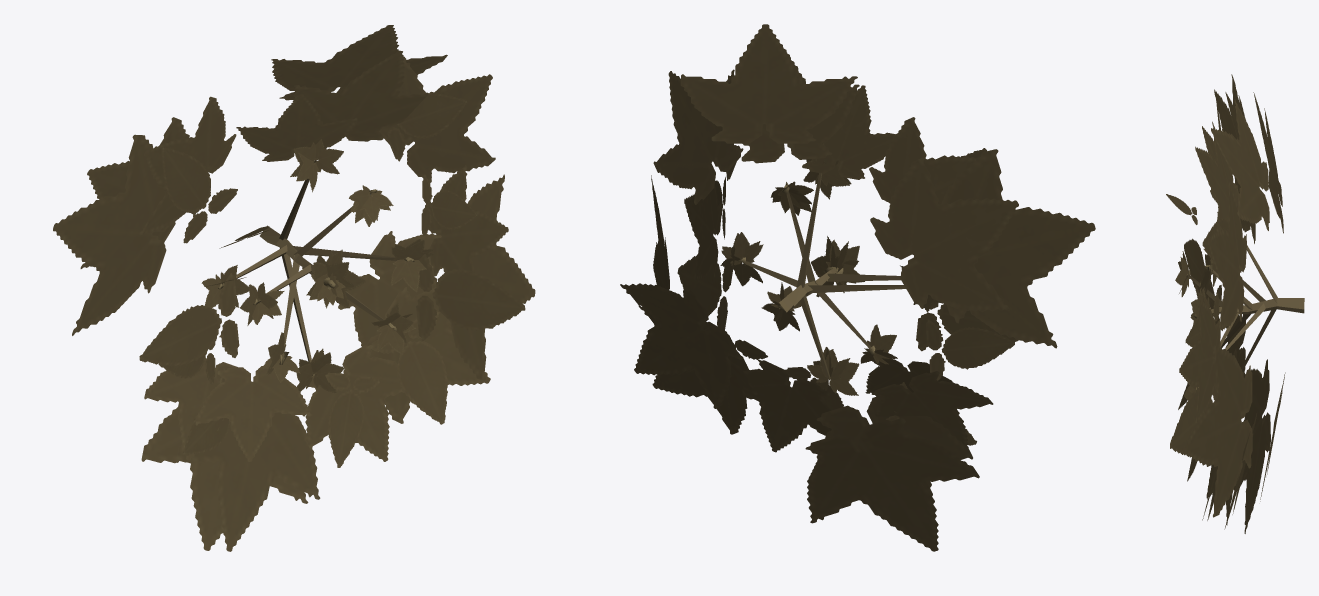
File: p_afghan_preflower_c4_cards.obj
3 views of the same model, side by side, from view 1: azimuth 30°, elevation 25°; view 2: azimuth 150°, elevation 25°; view 3: azimuth 270°, elevation 25° (orthographic). The views are drawn at different scales.
Size of the model in its own units: 1.43 by 1.44 by 0.355.
Materials: 1 (1 with a texture image).
